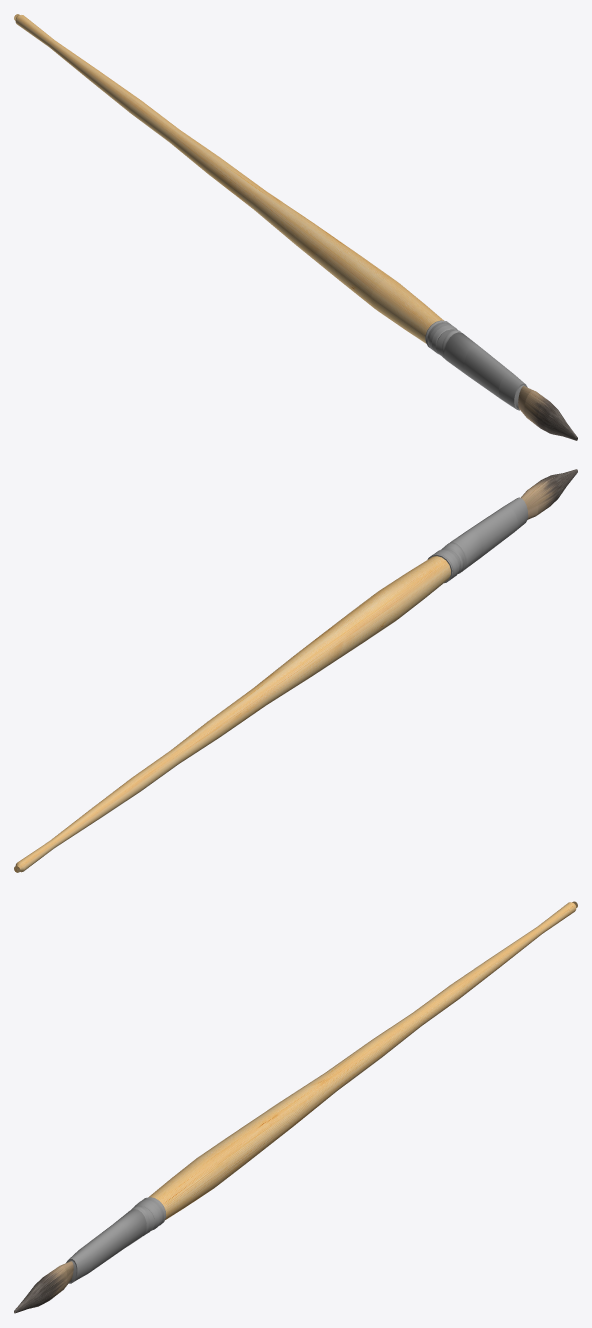
The model's file is Brush 1.FBX.
3 renders of one model, top to bottom at view 1: azimuth 30°, elevation 25°; view 2: azimuth 150°, elevation 25°; view 3: azimuth 330°, elevation 25°, orthographic. The views are drawn at different scales.
Visible parts, largest first — view 1: Brush 1; view 2: Brush 1; view 3: Brush 1.
Boxes of the visible parts, x1,y1,x2,y2 form: Brush 1: (14, 14, 577, 440); Brush 1: (14, 469, 577, 872); Brush 1: (14, 901, 577, 1313).
Size of the model in its own units: 0.627 by 0.627 by 20.08.
2 materials, 1 textured.
